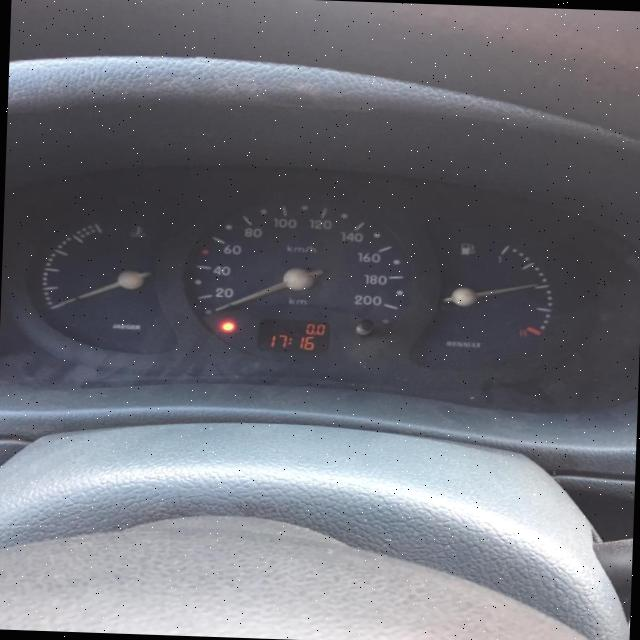odometer: (252, 316, 334, 356)
